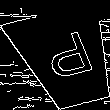P_S: (35, 28, 98, 88)
